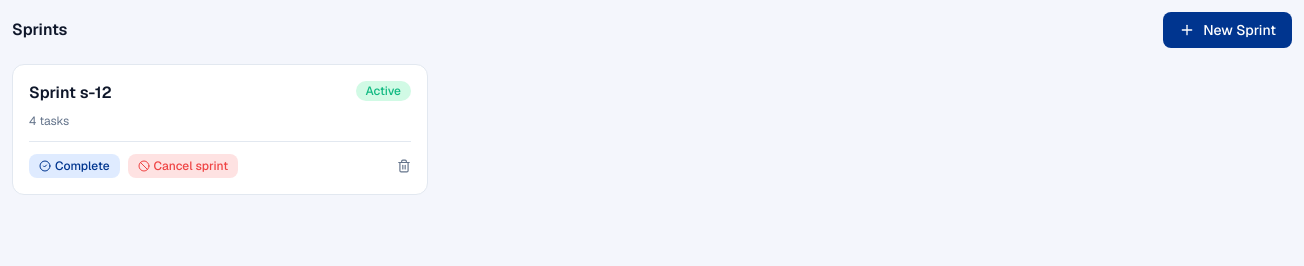
Scenario: R39/R37 — the backlog sweep is reported, not merely done › the notice survives the reload and clears only when dismissed
This screenshot has width=1304, height=266.
What coordinates should you click on to do the following:
click the button with test id "sprint-complete-s-12"
I would click on:
 (74, 166)
Its box is [29,154,120,178].
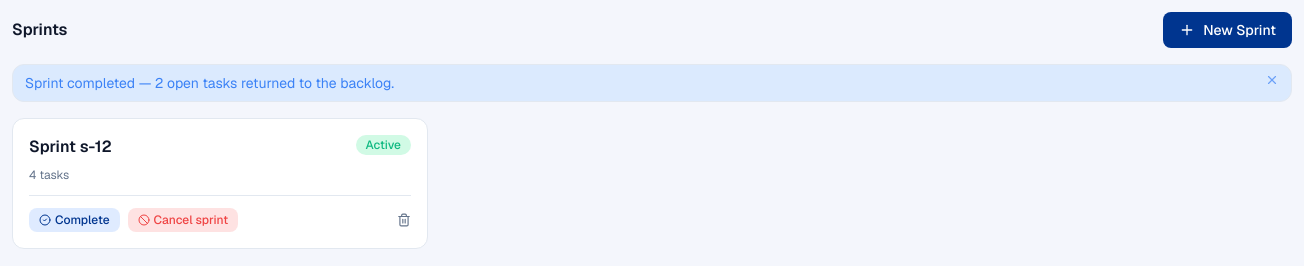
Now the message "Sprint completed — 2 open tasks returned to the backlog." is shown, box [12,64,1292,102]
What coordinates should you click on to do the following:
click the button with test id "sprint-close-notice-dismiss"
I would click on:
 (1272, 80)
Its box is [1265,73,1279,87].
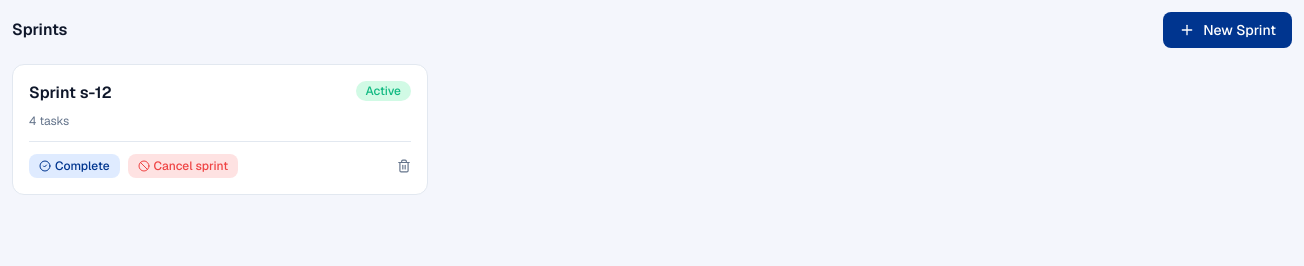
Now the message with test id "sprint-close-notice" is gone
